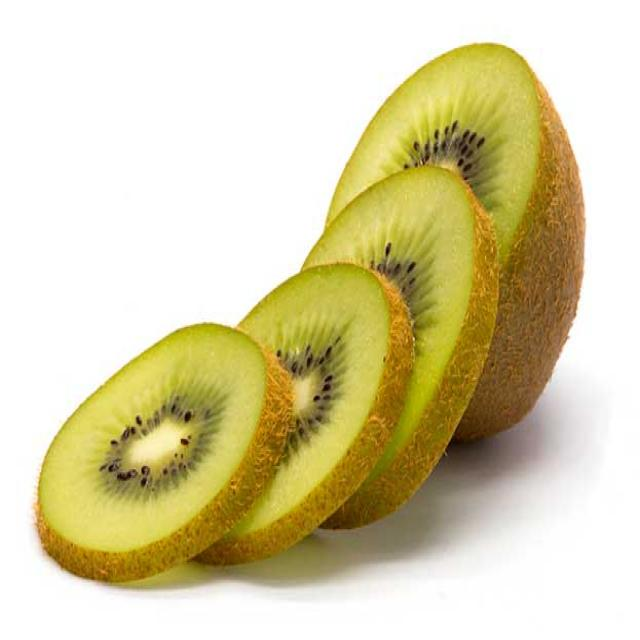Chilli Pepper: (320, 32, 594, 491), (189, 262, 417, 592), (25, 315, 296, 586)
